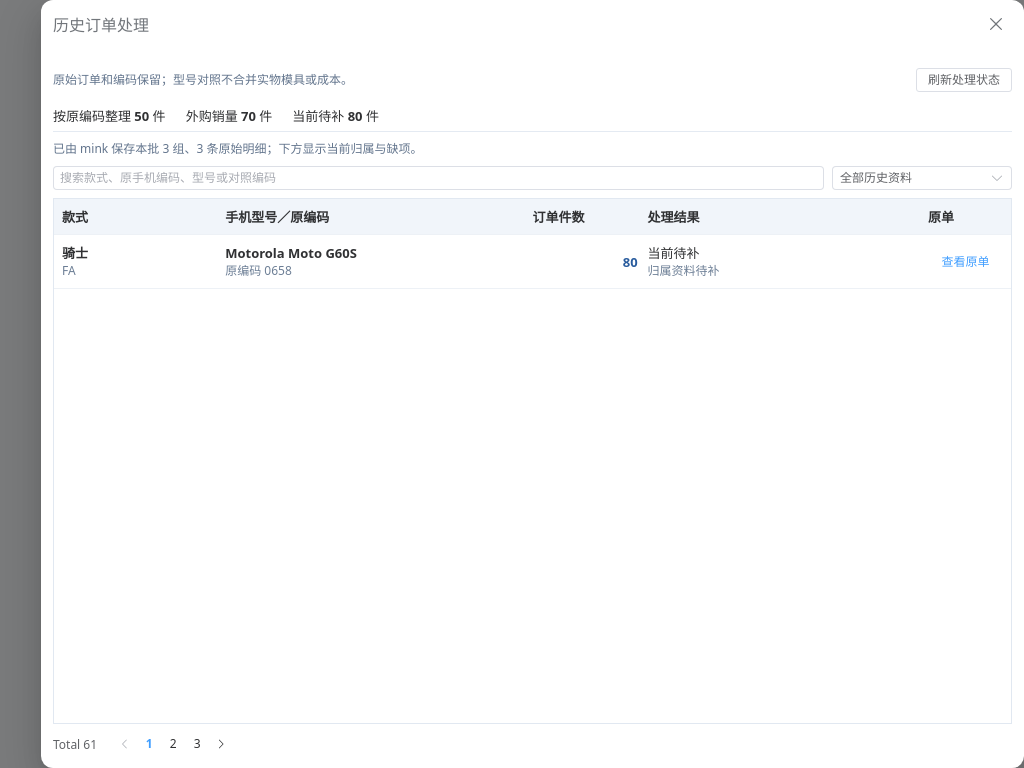
Test: historical sales classification and display-only phone references › uses the original group identity for evidence while showing the phone reference separately
The image size is (1024, 768).
Click the button "查看原单" at (966, 262), box [928,252,1003,270]
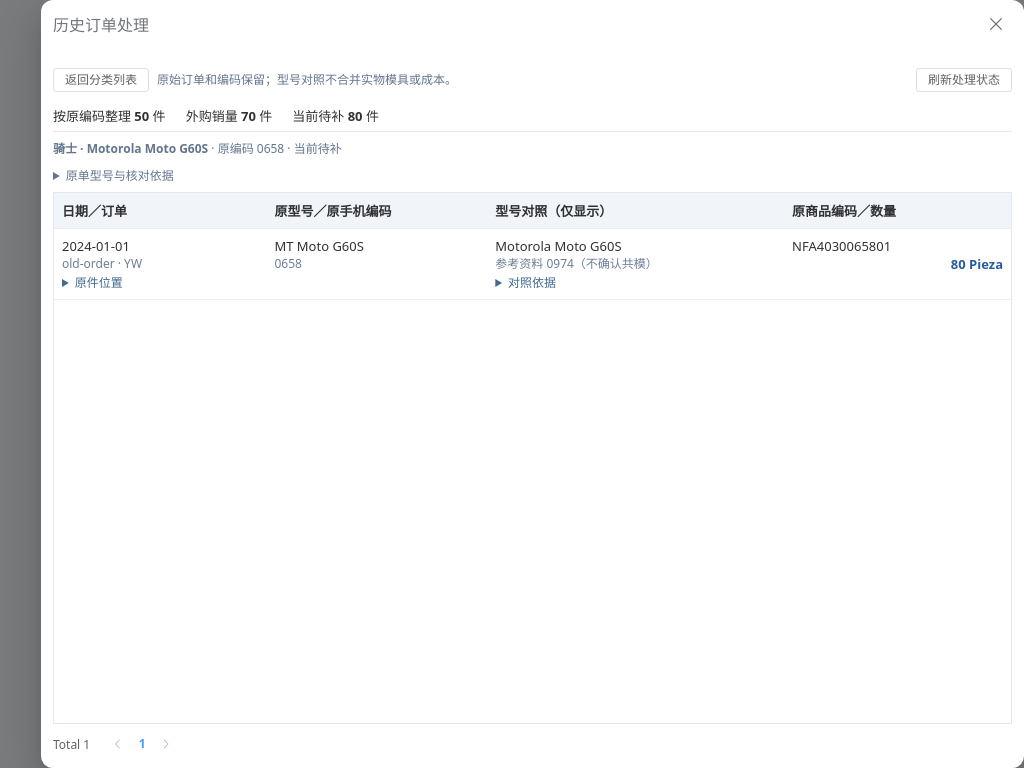
expect the table with class "order-list" shows "0658": met, box [274,255,302,272]
expect the table with class "order-list" shows "0974（不确认共模）": met, box [495,255,658,272]
expect the table with class "order-list" shows "NFA4030065801": met, box [792,237,891,255]
Click the button "返回分类列表" at (101, 80), box [53,68,149,92]
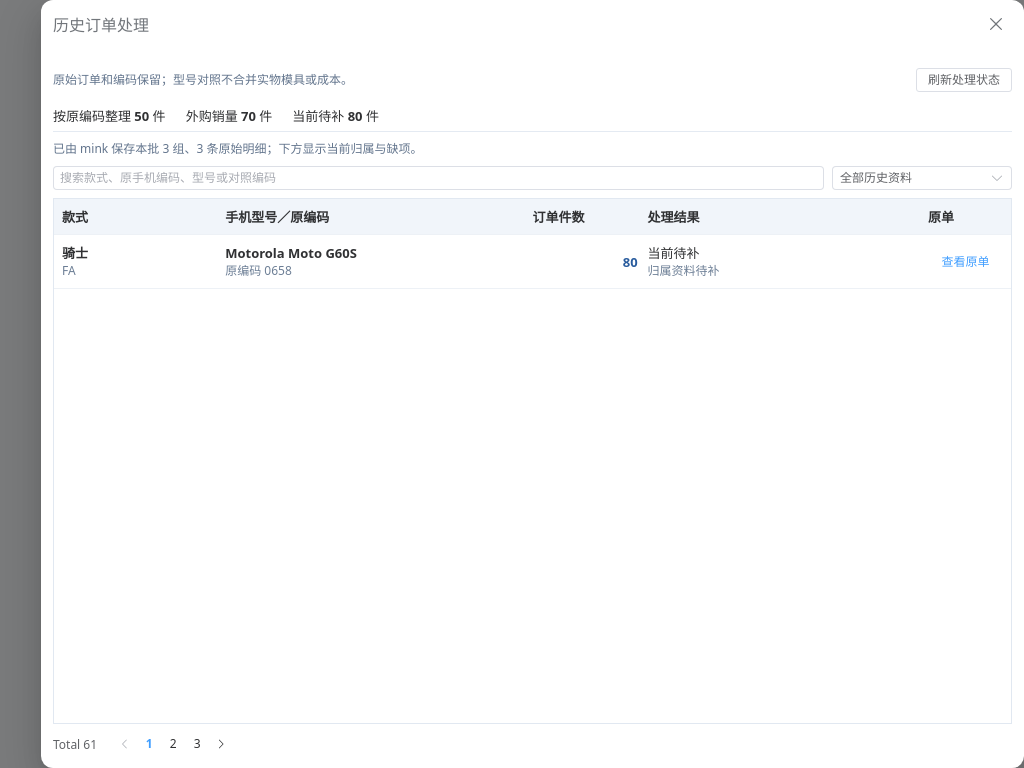
expect the table with class "review-list" shows "当前待补": met, box [648,244,700,262]
